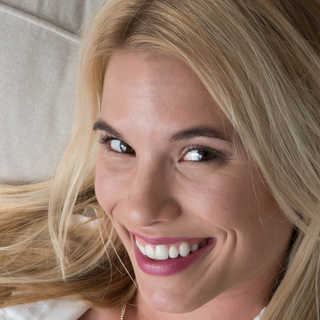eye: (177, 142, 228, 168), (95, 133, 138, 160)
